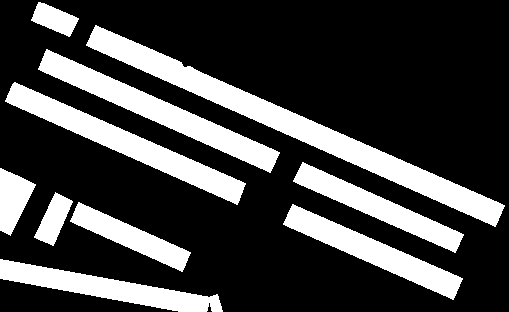parkingspot: (86, 25, 504, 226), (38, 49, 279, 172), (5, 82, 245, 204), (283, 204, 462, 299), (293, 162, 463, 252), (0, 259, 210, 312), (70, 202, 190, 271), (0, 175, 35, 235), (34, 192, 72, 245), (31, 2, 78, 36), (0, 168, 18, 215), (208, 294, 222, 312)
